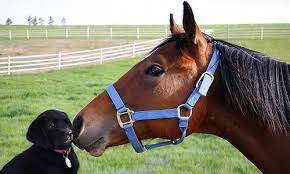Dog: (5, 108, 79, 172)
Horse: (72, 13, 290, 174)
